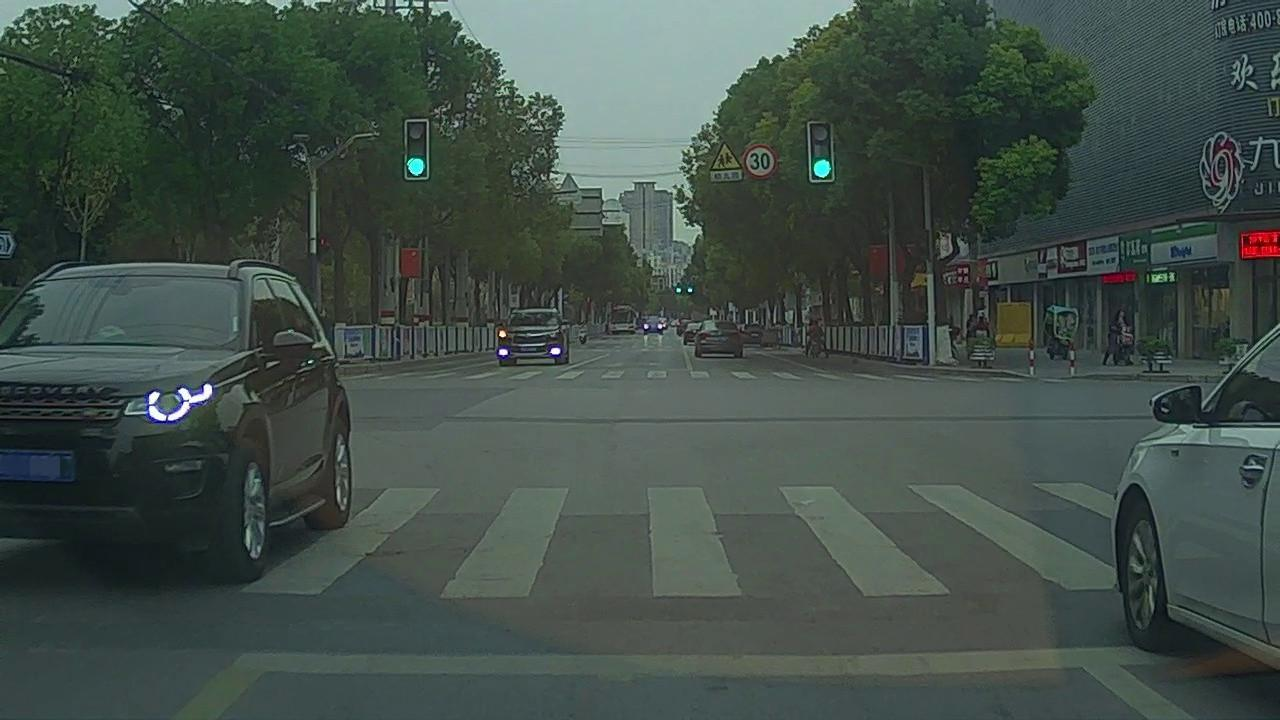traffic_light: (406, 121, 429, 181), (808, 124, 832, 179)
